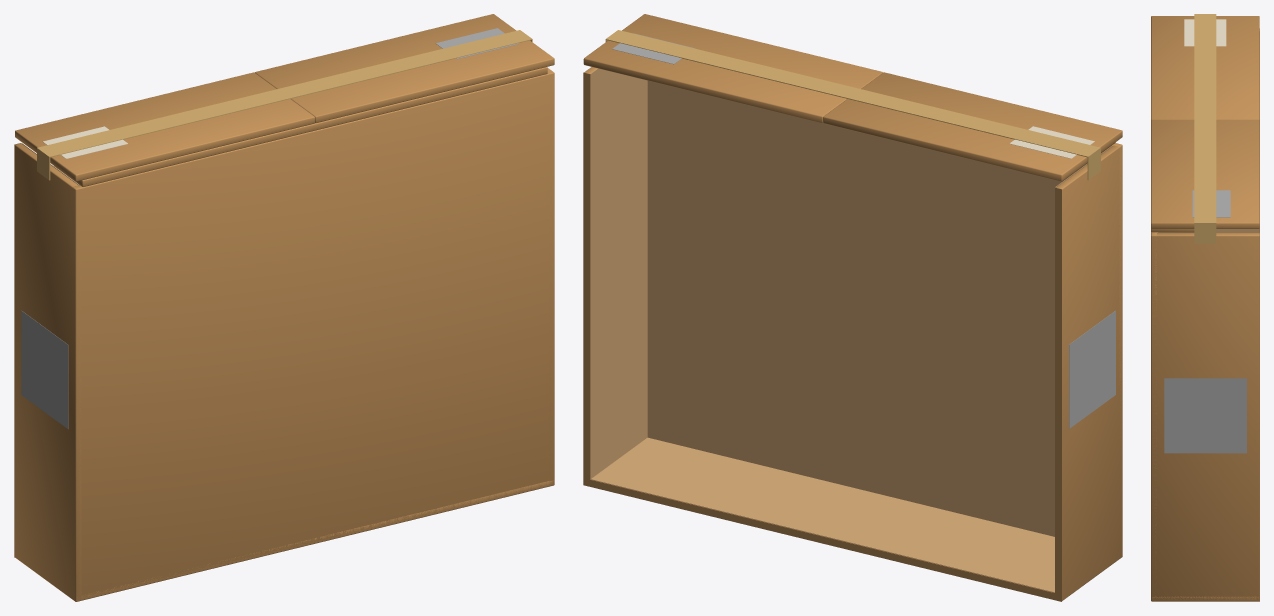
3 views of the same model, side by side, from view 1: azimuth 30°, elevation 25°; view 2: azimuth 150°, elevation 25°; view 3: azimuth 270°, elevation 25° (orthographic). The views are drawn at different scales.
Parts seen in each view (by area): view 1: box_6x5, FlapR, FlapL, Tape, FlapB; view 2: box_6x5, FlapR, FlapL, Tape; view 3: box_6x5, FlapL, FlapR, Tape, FlapB.
Part boxes in pixels (left/top/right/bottom): box_6x5: left=14, top=68, right=554, bottom=601; FlapR: left=15, top=72, right=314, bottom=181; FlapL: left=254, top=14, right=554, bottom=123; Tape: left=37, top=30, right=532, bottom=180; FlapB: left=54, top=67, right=547, bottom=186; box_6x5: left=583, top=67, right=1122, bottom=601; FlapR: left=823, top=72, right=1122, bottom=181; FlapL: left=583, top=14, right=883, bottom=122; Tape: left=605, top=30, right=1100, bottom=180; box_6x5: left=1151, top=28, right=1259, bottom=601; FlapL: left=1151, top=119, right=1259, bottom=228; FlapR: left=1151, top=16, right=1259, bottom=119; Tape: left=1194, top=14, right=1216, bottom=243; FlapB: left=1151, top=228, right=1194, bottom=232.
Bounding box in the file's own units: 1.56 × 1.32 × 0.3428.
